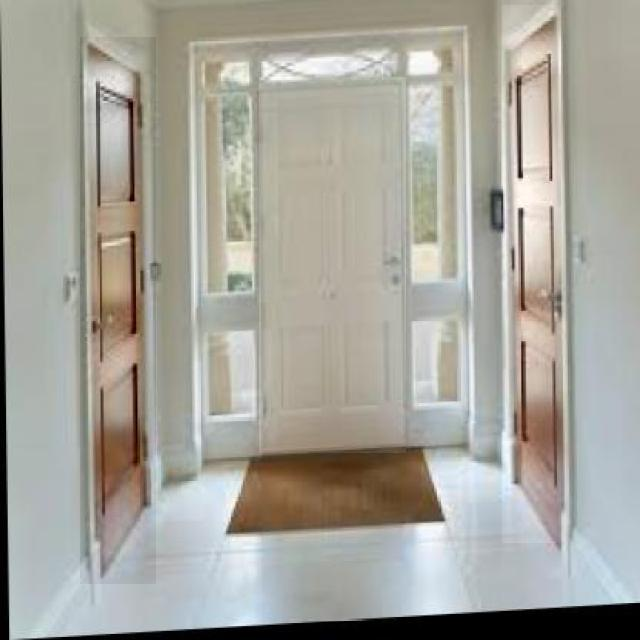door: (259, 78, 406, 453), (81, 35, 159, 584), (502, 5, 562, 543)
